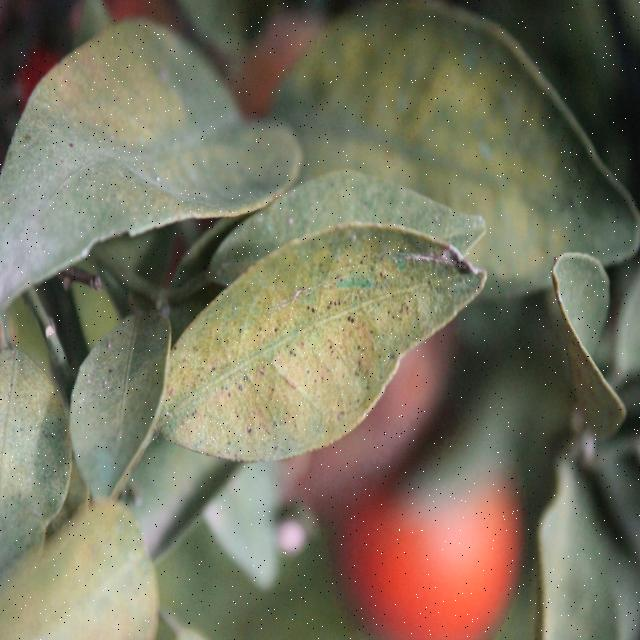blackspot: (158, 225, 456, 490), (0, 351, 78, 580)
